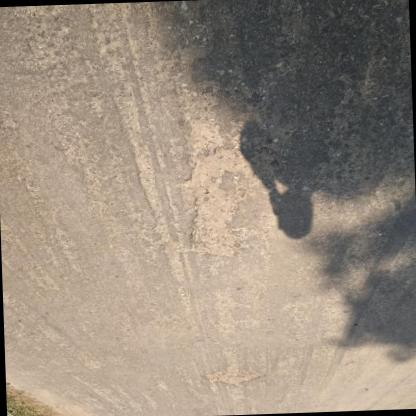pothole: (180, 116, 256, 261), (204, 364, 266, 388)
